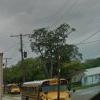Bus: (18, 77, 73, 99)
